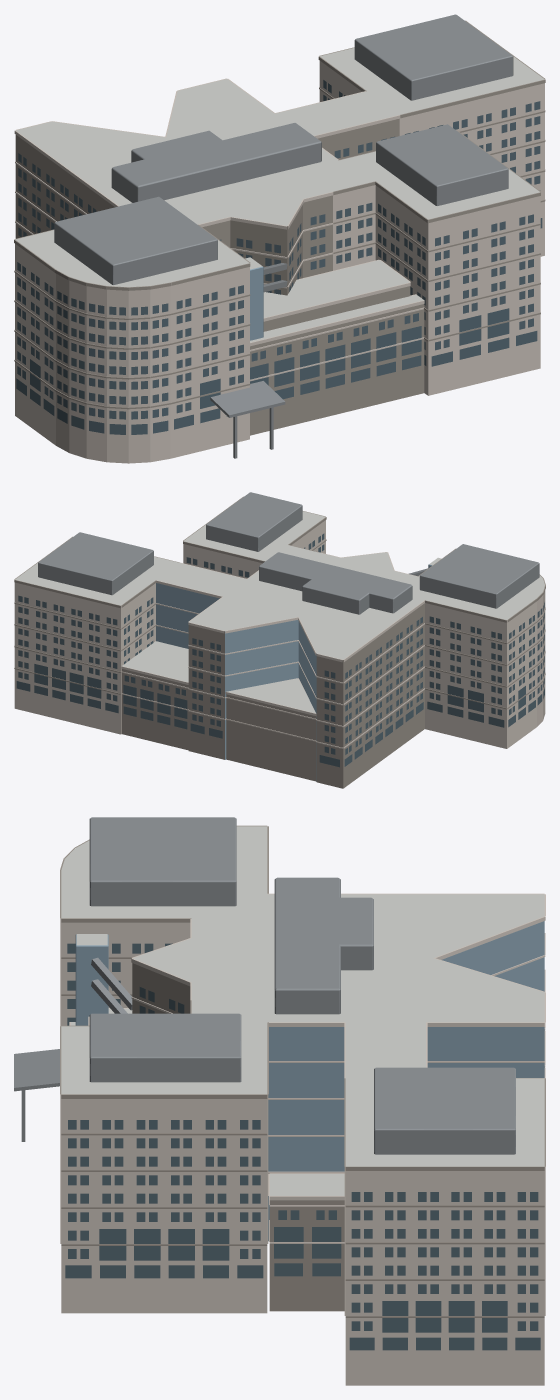
Rendered from la-ronald-reagan-medical-center.glb.
3 renders of one model, top to bottom at view 1: azimuth 30°, elevation 25°; view 2: azimuth 150°, elevation 25°; view 3: azimuth 270°, elevation 25°, orthographic. The views are drawn at different scales.
Visible parts, largest first — view 1: Ronald Reagan UCLA Medical Center; view 2: Ronald Reagan UCLA Medical Center; view 3: Ronald Reagan UCLA Medical Center.
Part boxes in pixels (x1,y1,x2,y2): Ronald Reagan UCLA Medical Center: (14,14,545,463); Ronald Reagan UCLA Medical Center: (14,492,545,788); Ronald Reagan UCLA Medical Center: (14,817,545,1385).
Size of the model in its own units: 171 by 56.9 by 112.
